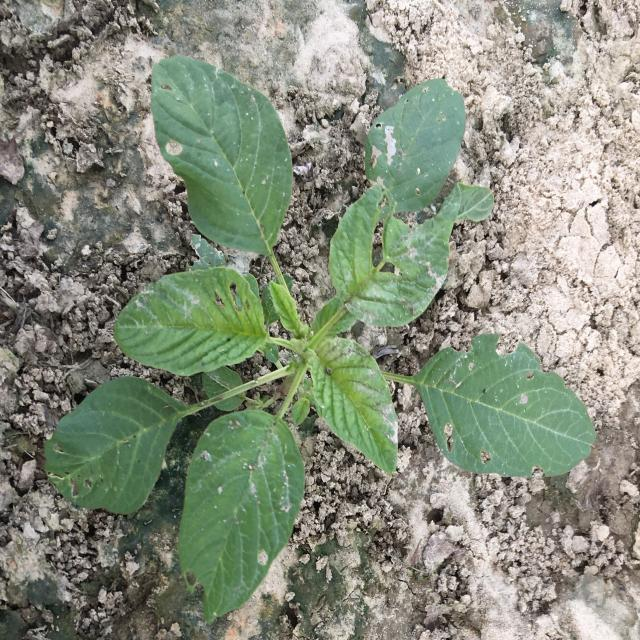PalmerAmaranth: (44, 55, 596, 626)
